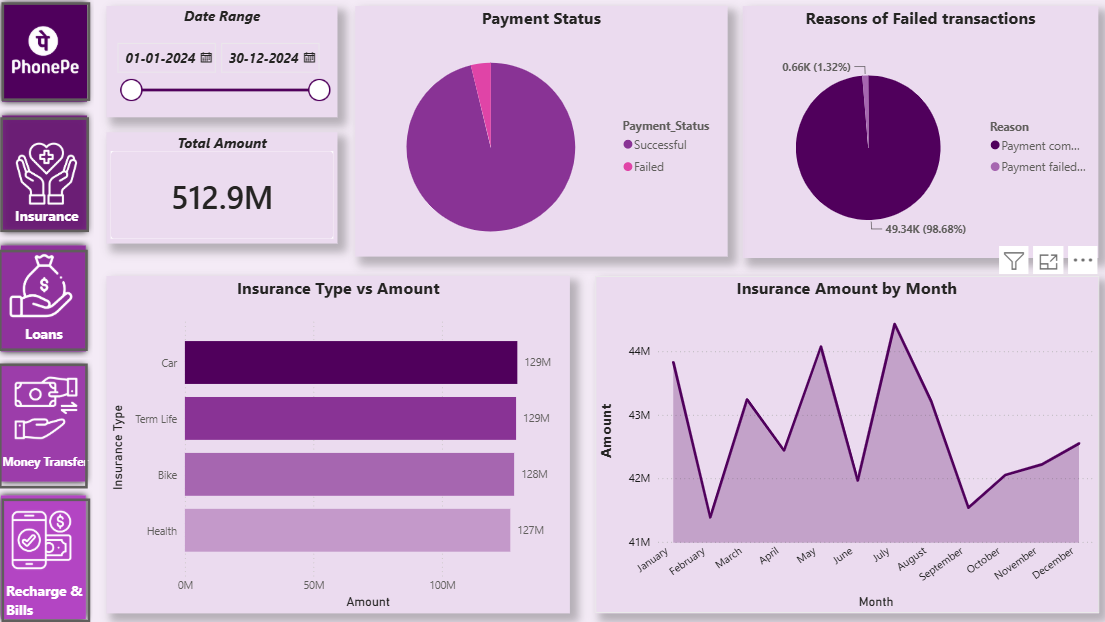

This screenshot's page, from the dashboard's own definition file:
{"tool":"powerbi","page":{"name":"Insurance","canvas":[1280,720],"ordinal":1},"visuals":[{"type":"shape","box":[1.4,0,112.9,128.6],"z":0,"group":"g4"},{"type":"slicer","title":"Date Range","fields":{"Values":["Insurance.Date"]},"box":[128.6,11.4,264.3,127.1],"z":0},{"type":"shape","box":[1.4,128.6,112.9,148.6],"z":1000,"group":"g1"},{"type":"cardVisual","title":"Total Amount","fields":{"Data":["Sum(Insurance.Premium)"]},"box":[128.6,155.7,264.3,127.1],"z":1000},{"type":"pieChart","title":"Reasons of Failed transactions","fields":{"Category":["Insurance.Reason"],"Y":["CountNonNull(Insurance.Reason)"]},"box":[856.3,11,406.2,288.2],"z":2000},{"type":"shape","box":[0,277.1,112.9,137.1],"z":2000,"group":"g2"},{"type":"lineChart","title":"Insurance Amount by Month","fields":{"Category":["Insurance.Date.Variation.Date Hierarchy.Month"],"Y":["Sum(Insurance.Premium)"]},"box":[687.5,319.7,575,385.6],"z":3000},{"type":"shape","box":[0,414.3,112.9,148.6],"z":3000,"group":"g5"},{"type":"group","id":"g1","title":"Group 1","box":[1.4,128.6,150,148.6],"z":4000},{"type":"shape","box":[0,562.9,112.9,157.1],"z":4000,"group":"g3"},{"type":"image","box":[17.1,152.9,85.7,100],"z":5000,"group":"g1"},{"type":"group","id":"g2","title":"Group 2","box":[0,277.1,167.1,137.1],"z":5000},{"type":"image","box":[14.3,290,81.4,80],"z":6000,"group":"g2"},{"type":"group","id":"g3","title":"Group 4","box":[0,414.3,167.1,305.7],"z":6000},{"type":"group","id":"g4","title":"Group 5","box":[1.4,0,112.9,128.6],"z":7000},{"type":"image","box":[14.3,580,80,82.9],"z":7000,"group":"g3"},{"type":"image","box":[17.7,7.8,82.2,112.2],"z":8000,"group":"g4"},{"type":"actionButton","box":[7.1,138.6,101.4,131.4],"z":8000},{"type":"actionButton","box":[5.7,290,101.4,115.7],"z":9000},{"type":"image","box":[18.6,427.2,81.4,87.1],"z":9000,"group":"g5"},{"type":"textbox","box":[1.4,234.3,150,35.7],"z":10000,"group":"g1"},{"type":"actionButton","box":[5.7,420,101.4,142.9],"z":10000},{"type":"actionButton","box":[8.6,574.3,101.4,141.4],"z":11000},{"type":"textbox","box":[8.6,662.9,101.4,52.9],"z":11000,"group":"g3"},{"type":"pieChart","title":"Payment Status","fields":{"Category":["All_Transactions.Payment_Status"],"Y":["CountNonNull(All_Transactions.Payment_Status)"]},"box":[413,11,425.4,286.8],"z":12000},{"type":"textbox","box":[0,514.3,167.1,35.7],"z":12000,"group":"g5"},{"type":"clusteredBarChart","title":"Insurance Type vs Amount","fields":{"Category":["Insurance.Insurance_Type"],"Y":["Sum(Insurance.Premium)"]},"box":[129,319.7,529.7,385.6],"z":13000},{"type":"textbox","box":[17.1,370,150,35.7],"z":13000,"group":"g2"},{"type":"group","id":"g5","title":"Group 3","box":[0,414.3,167.1,148.6],"z":21003,"group":"g3"},{"type":"actionButton","box":[7.9,7.1,101.4,112.9],"z":21006,"group":"g4"}]}

Visuals, with their boxes in screenshot pixels (x1, y1, x2, y2), scaled from the page's 1280x720 canvas onto the 1105x622 screenshot:
shape: 1,0,99,111
"Date Range" slicer: 111,10,339,120
shape: 1,111,99,239
"Total Amount" cardVisual: 111,135,339,244
"Reasons of Failed transactions" pieChart: 739,10,1090,258
shape: 0,239,97,358
"Insurance Amount by Month" lineChart: 594,276,1090,609
shape: 0,358,97,486
"Group 1" group: 1,111,131,239
shape: 0,486,97,621
image: 15,132,89,218
"Group 2" group: 0,239,144,358
image: 12,251,83,320
"Group 4" group: 0,358,144,621
"Group 5" group: 1,0,99,111
image: 12,501,81,573
image: 15,7,86,104
actionButton: 6,120,94,233
actionButton: 5,251,92,350
image: 16,369,86,444
textbox: 1,202,131,233
actionButton: 5,363,92,486
actionButton: 7,496,95,618
textbox: 7,573,95,618
"Payment Status" pieChart: 357,10,724,257
textbox: 0,444,144,475
"Insurance Type vs Amount" clusteredBarChart: 111,276,569,609
textbox: 15,320,144,350
"Group 3" group: 0,358,144,486
actionButton: 7,6,94,104
